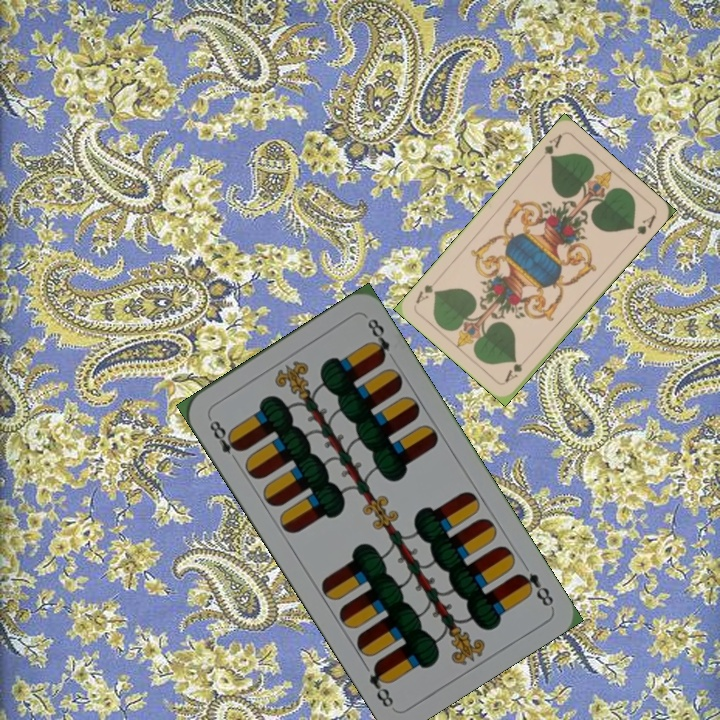E8: (204, 413, 245, 466), (512, 568, 556, 609)
GA: (500, 352, 532, 385), (534, 130, 565, 164)
